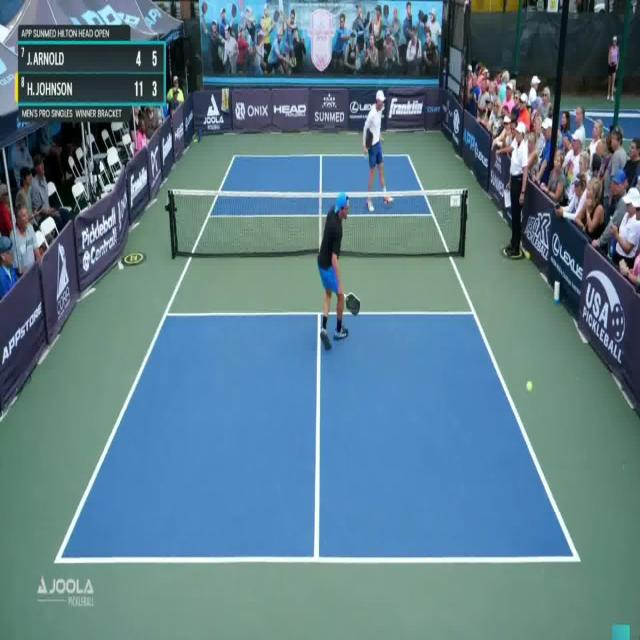Court: (57, 156, 577, 561)
ball: (525, 378, 537, 397)
